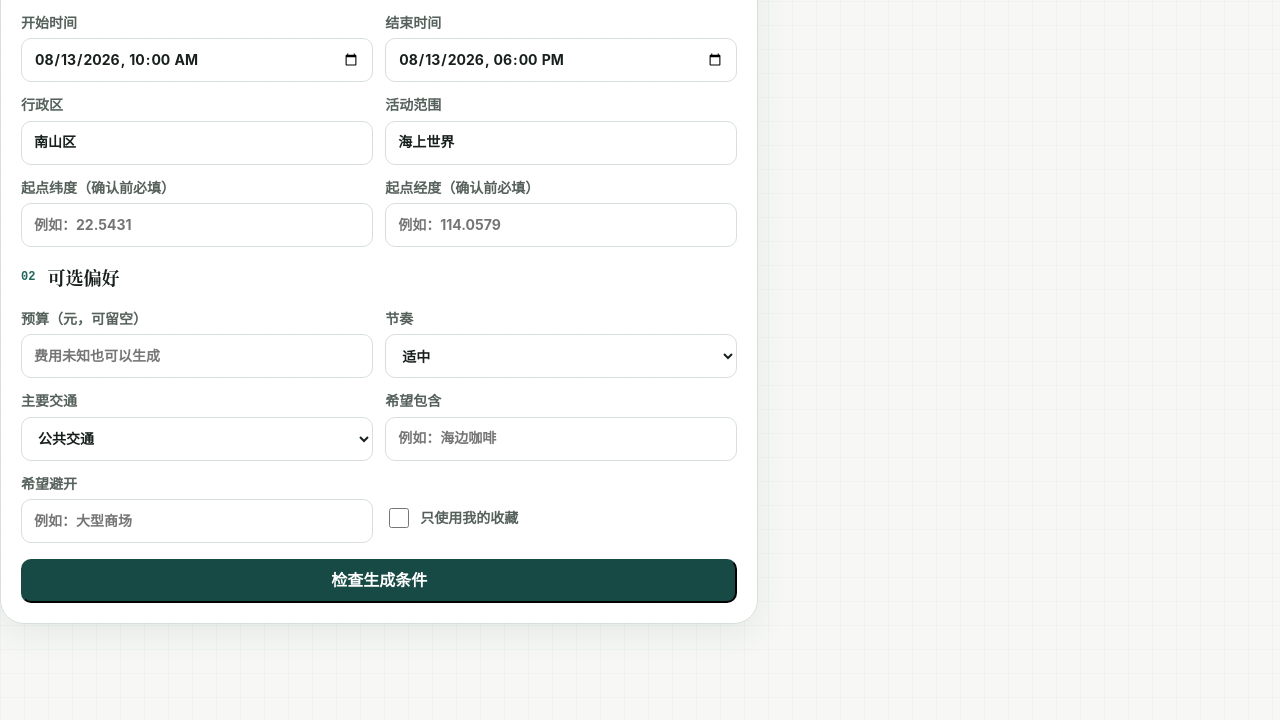
Test: PlansExperience › collects required conditions and shows a confirmation card before generation
(page scrolled)
Click the button "检查生成条件" at (379, 581), box [21, 559, 737, 603]
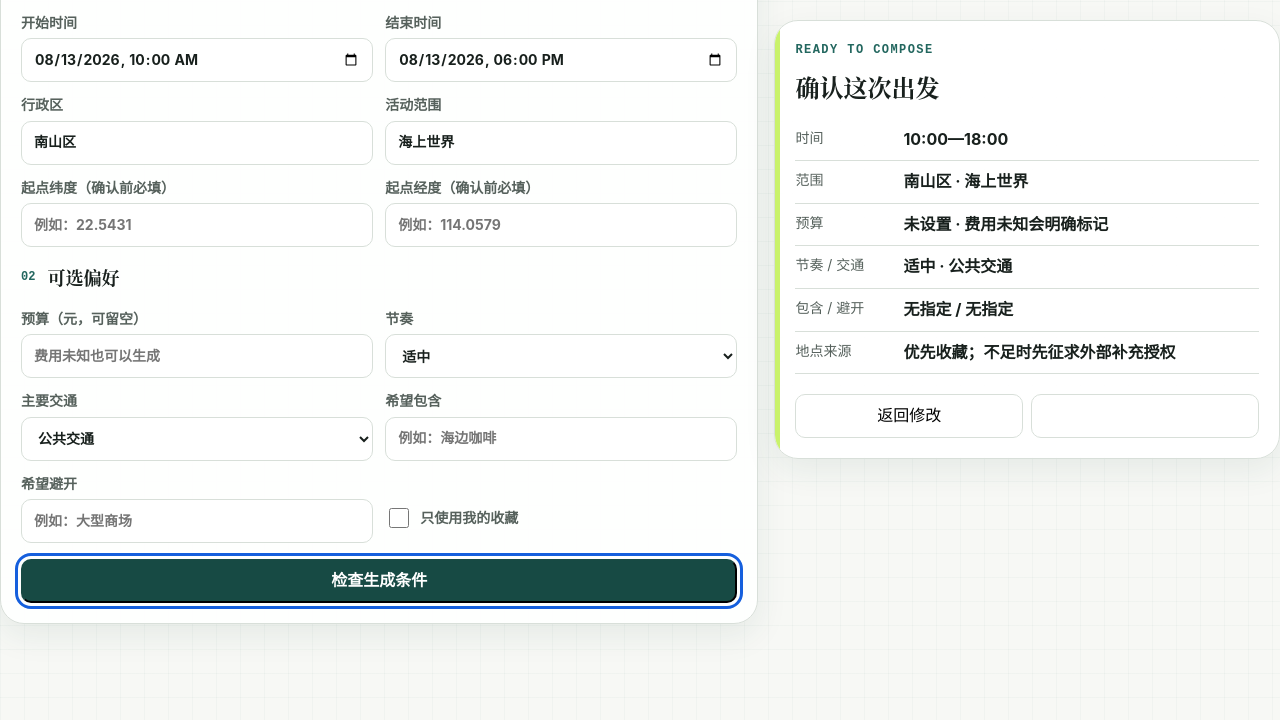
Check: the heading "确认这次出发" is shown, box [795, 69, 939, 104]
Check: the text "未设置 · 费用未知会明确标记" is shown, box [903, 214, 1108, 234]
Check: the button "确认并生成" is shown, box [1031, 394, 1259, 438]
